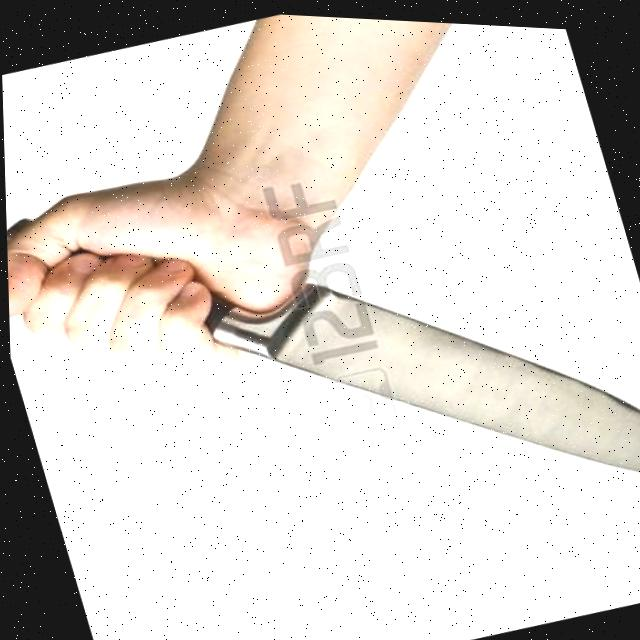knife: (182, 152, 640, 602)
